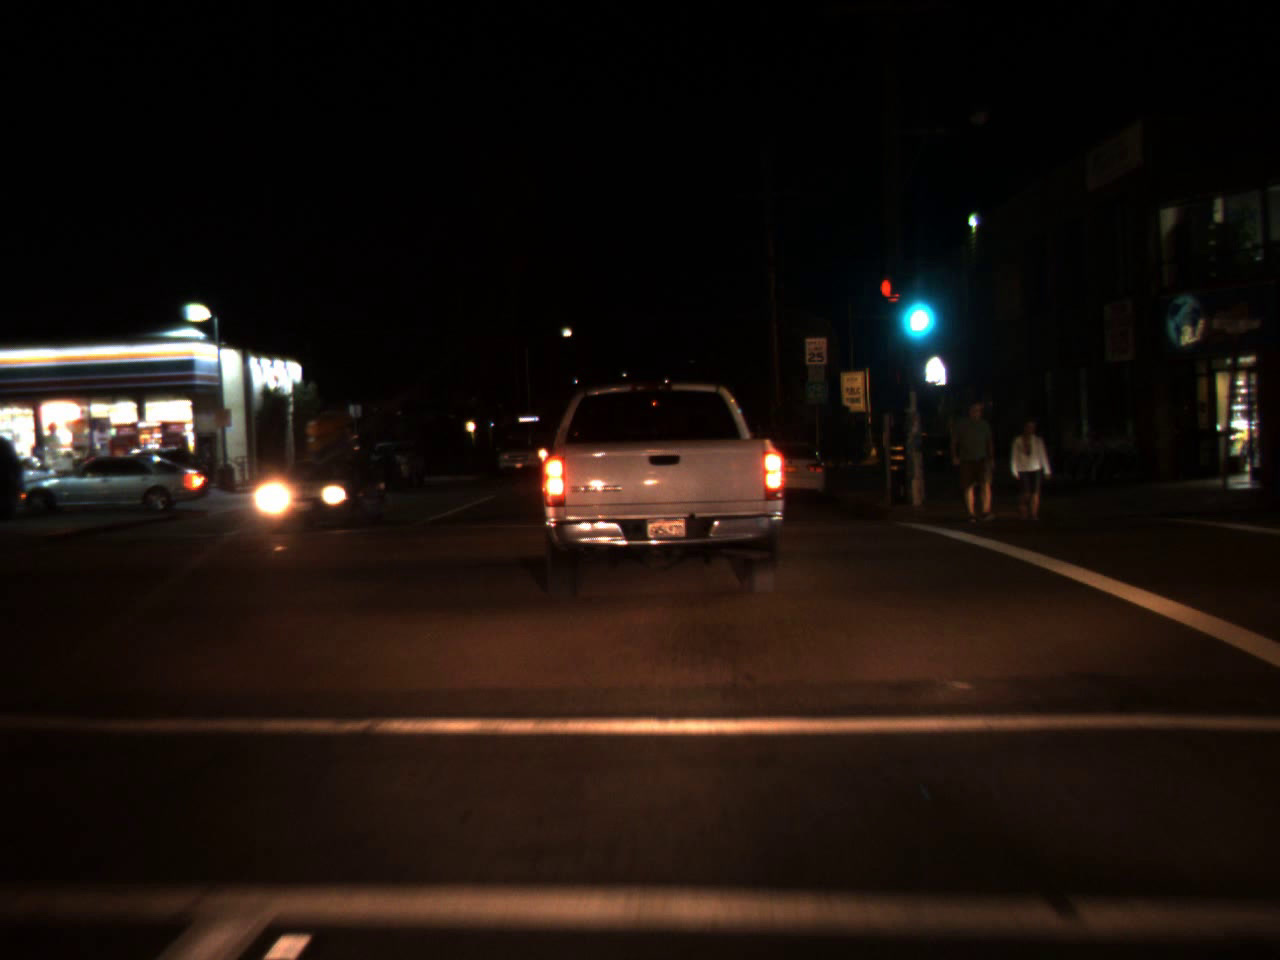go: (892, 266, 937, 344)
